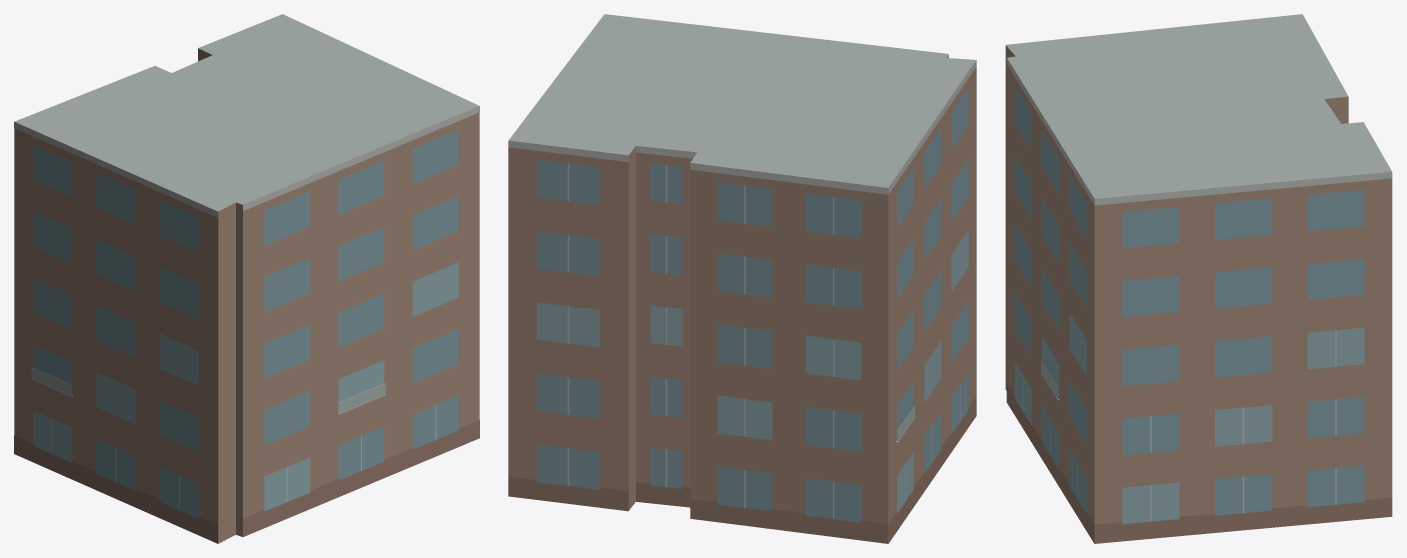
The model's file is survey-upis-32746380.glb.
The picture shows the model from 3 angles, left to right: view 1: azimuth 30°, elevation 25°; view 2: azimuth 150°, elevation 25°; view 3: azimuth 270°, elevation 25°; orthographic projection. The views are drawn at different scales.
Parts seen in each view (by area): view 1: survey-upis-32746380.tmp; view 2: survey-upis-32746380.tmp; view 3: survey-upis-32746380.tmp.
Part boxes in pixels (x1=…): survey-upis-32746380.tmp: x1=14, y1=14, x2=479, y2=543; survey-upis-32746380.tmp: x1=508, y1=14, x2=976, y2=543; survey-upis-32746380.tmp: x1=1005, y1=14, x2=1392, y2=543.
Size of the model in its own units: 14.74 by 12.8 by 13.02.
